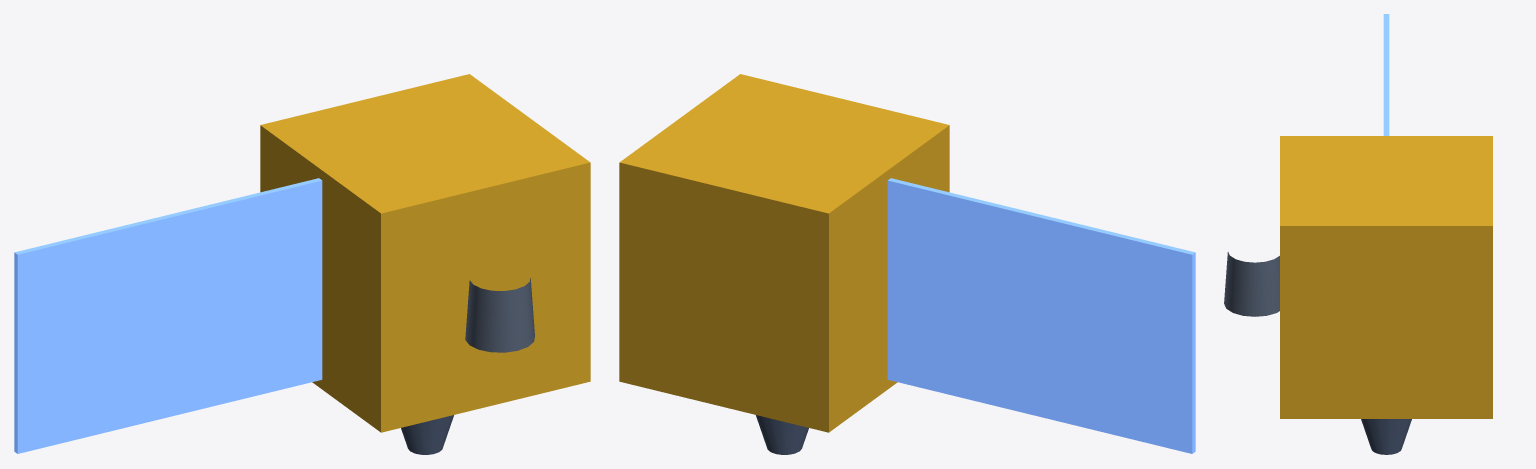
File: mangalyaan.glb
3 views of the same model, side by side, from view 1: azimuth 30°, elevation 25°; view 2: azimuth 150°, elevation 25°; view 3: azimuth 270°, elevation 25° (orthographic). The views are drawn at different scales.
Visible parts, largest first — view 1: Core_Bus, Solar_Wing, MCC_Camera_Barrel, LAM_Main_Engine; view 2: Core_Bus, Solar_Wing, LAM_Main_Engine; view 3: Core_Bus, MCC_Camera_Barrel, LAM_Main_Engine, Solar_Wing.
Boxes of the visible parts, x1,y1,x2,y2 form: Core_Bus: [260, 74, 590, 432]; Solar_Wing: [14, 178, 322, 453]; MCC_Camera_Barrel: [465, 278, 534, 352]; LAM_Main_Engine: [401, 415, 453, 454]; Core_Bus: [619, 74, 949, 432]; Solar_Wing: [887, 178, 1195, 453]; LAM_Main_Engine: [756, 415, 808, 454]; Core_Bus: [1280, 136, 1492, 418]; MCC_Camera_Barrel: [1224, 252, 1279, 316]; LAM_Main_Engine: [1361, 419, 1411, 454]; Solar_Wing: [1383, 14, 1389, 135].
Size of the model in its own units: 2.85 by 1.85 by 1.54.
